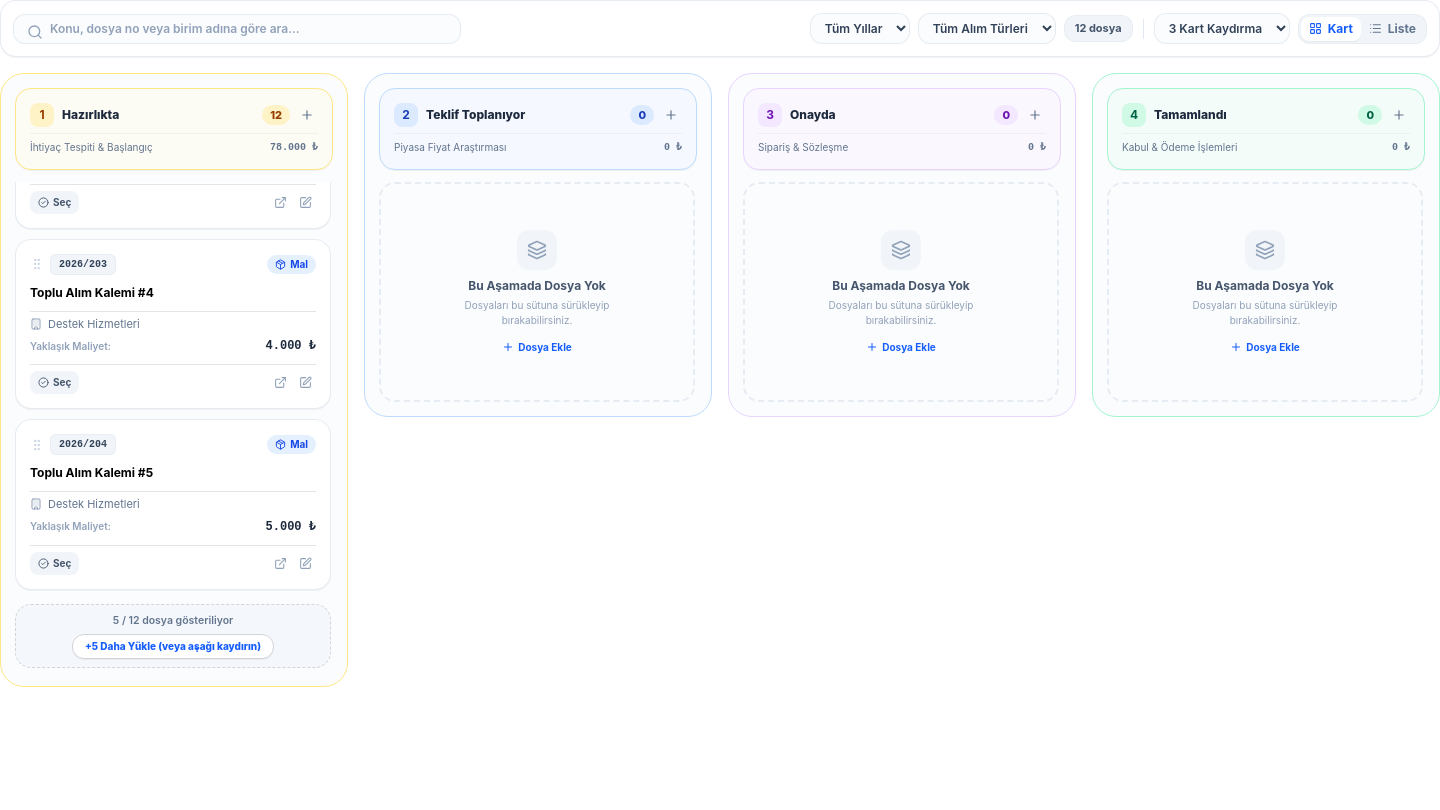
Scenario: TakipKanbanBoard (Issue #11) › sütunda çok sayıda dosya olduğunda kademeli yükleme ve +5 Daha Yükle butonu çalışır
The image size is (1440, 810).
(page scrolled)
Check: the text "5 / 12 dosya gösteriliyor" is shown, box x1=113 y1=612 x2=233 y2=628
Click the button "+5 Daha Yükle (veya aşağı kaydırın)" at (173, 647), box x1=72 y1=634 x2=274 y2=659
(page scrolled)
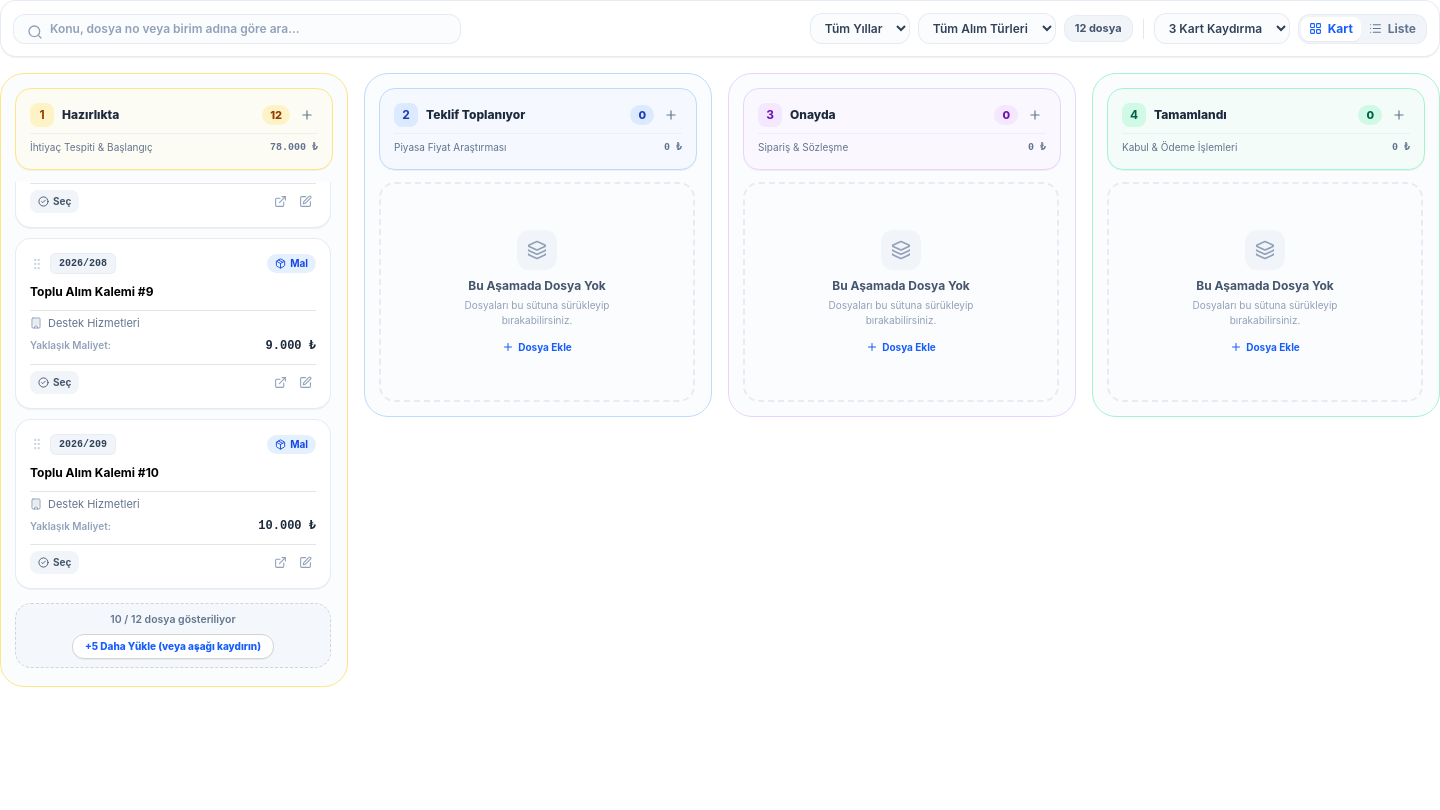
Check: the text "10 / 12 dosya gösteriliyor" is shown, box x1=110 y1=612 x2=236 y2=628
